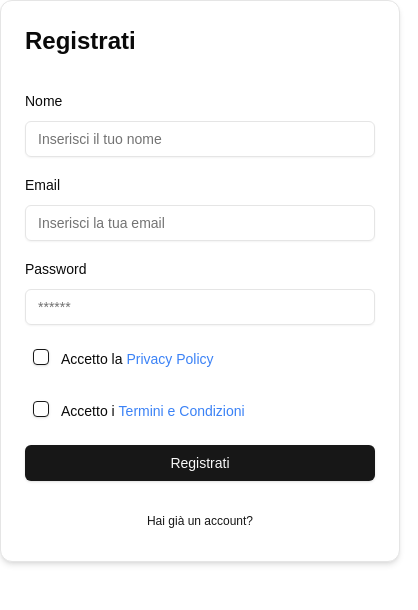
Test case: RegisterForm › TC_1_4_RF_1: password troppo lunga
This screenshot has width=418, height=610.
Type "user@example.com" into the field labelled "Email".
click(200, 223); type("user@example.com")  # box [25,205,375,241]
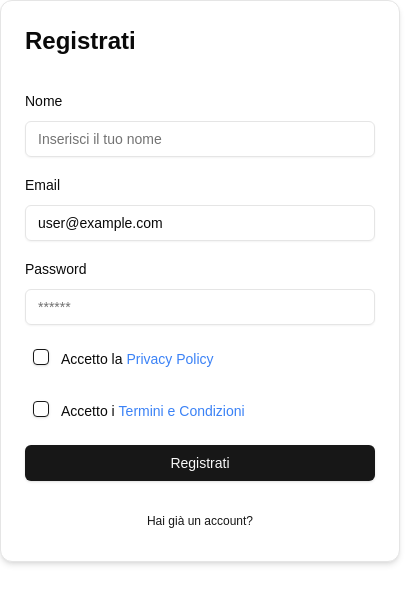
Type "PasswordTroppoLungaOltre20Caratteri" into the password field labelled "Password".
click(200, 307); type("PasswordTroppoLungaOltre20Caratteri")  # box [25,289,375,325]
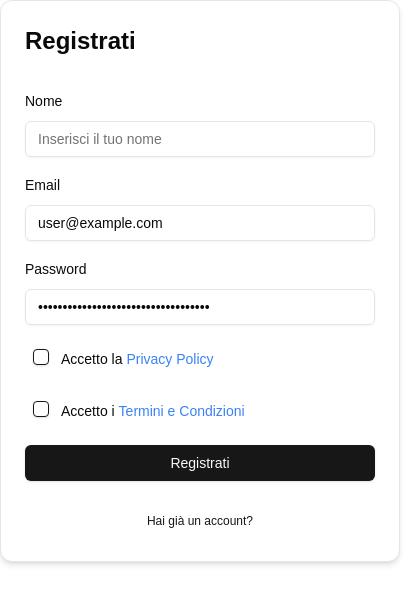
Type "Mario Rossi" into the field labelled "Nome".
click(200, 139); type("Mario Rossi")  # box [25,121,375,157]
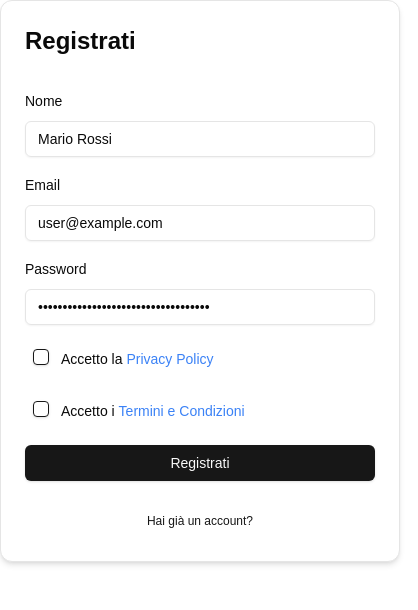
Click the checkbox named "Privacy Policy" next to "Accetto la".
click(41, 357)  # box [33,349,49,365]
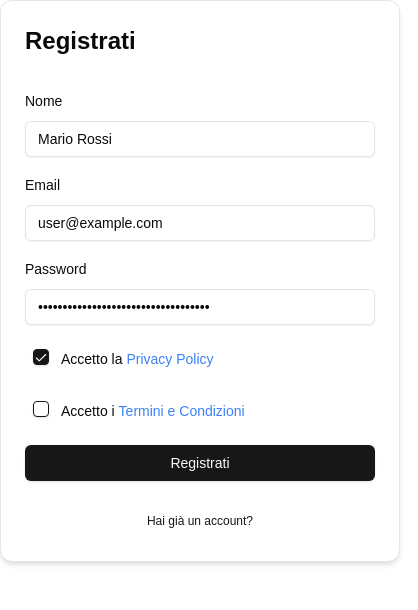
Click the checkbox named "Termini e Condizioni" next to "Accetto i".
click(41, 409)  # box [33,401,49,417]
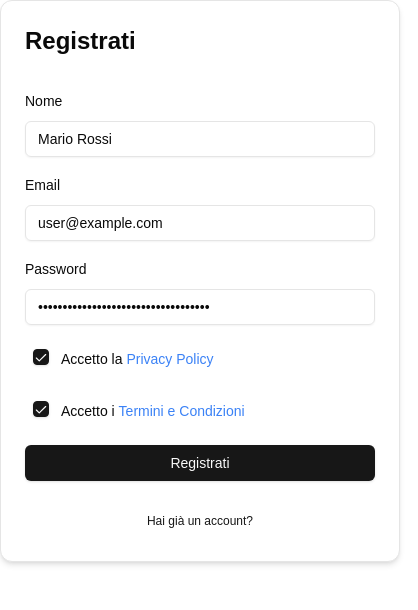
Click the button "Registrati".
click(200, 463)  # box [25,445,375,481]
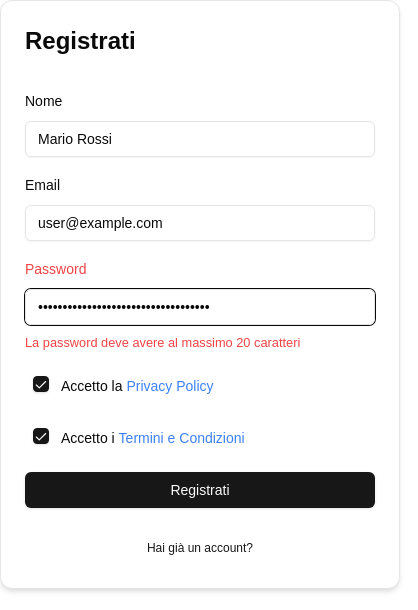
Check: the text "La password deve avere al massimo 20 caratteri" is shown, box [25,335,300,350]
